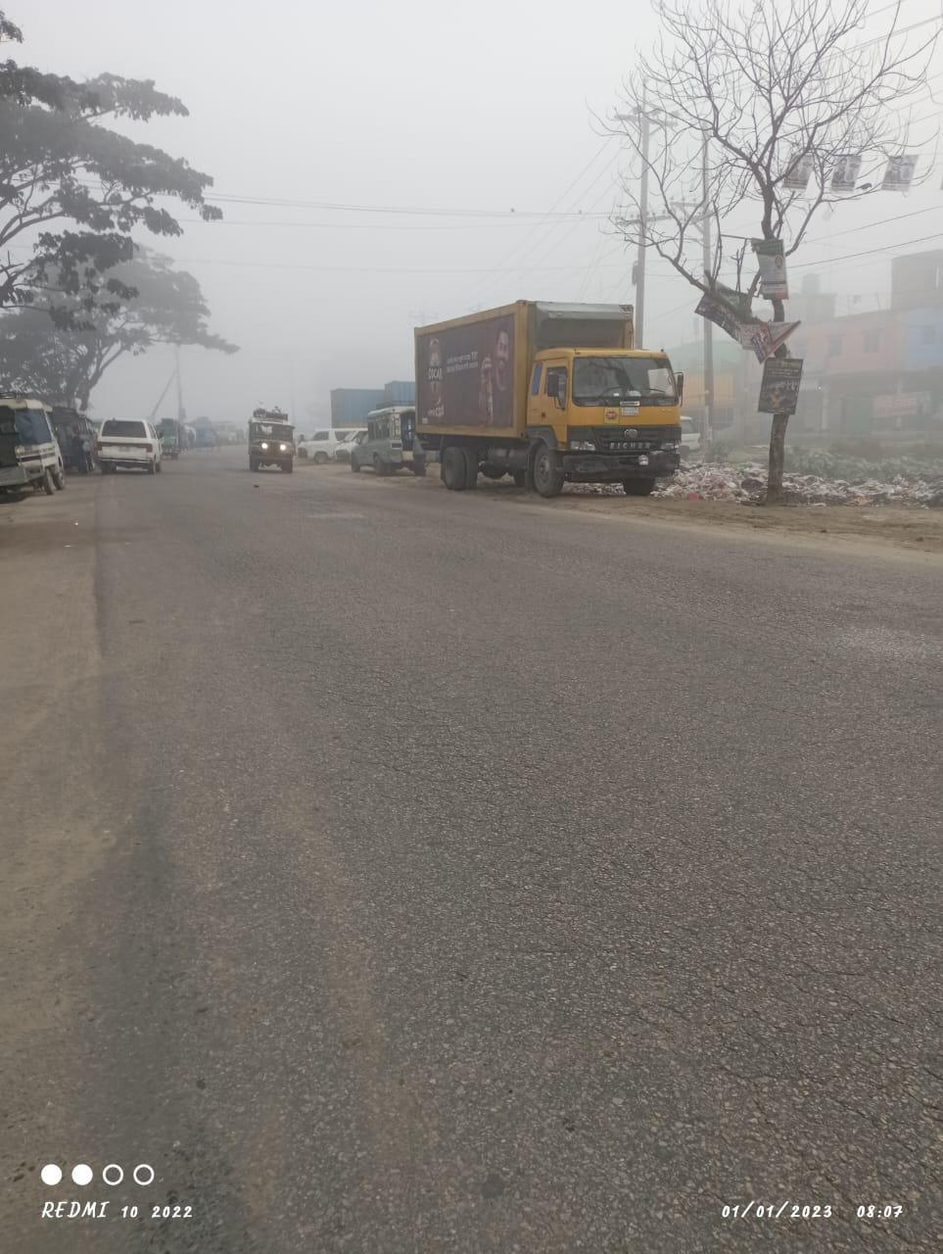Car: (2, 381, 75, 495), (344, 396, 416, 492), (90, 414, 172, 481), (243, 404, 303, 483)
Truck: (401, 289, 694, 514)
